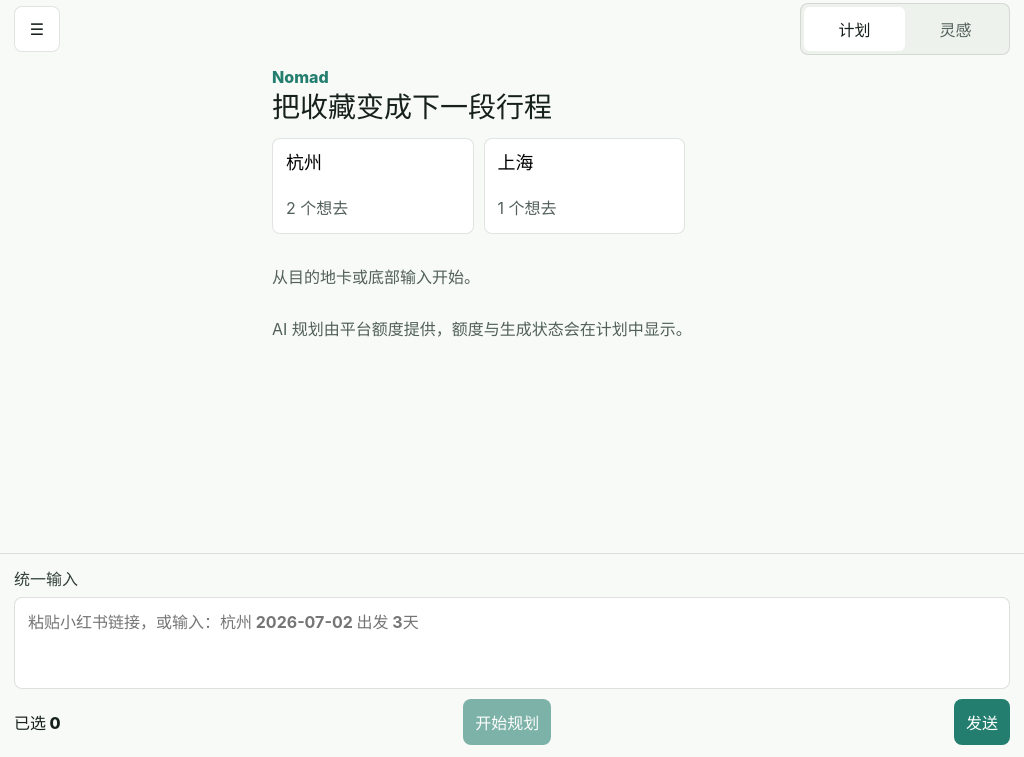
it: HomeScreen › renders destination cards and library items from user-scoped API data
expect the button "杭州 2 个想去" is shown: met, box x1=272 y1=138 x2=474 y2=234
expect the button "上海 1 个想去" is shown: met, box x1=484 y1=138 x2=685 y2=234
Click the button "灵感".
click(956, 29)  # box x1=905 y1=7 x2=1006 y2=51
(page scrolled)
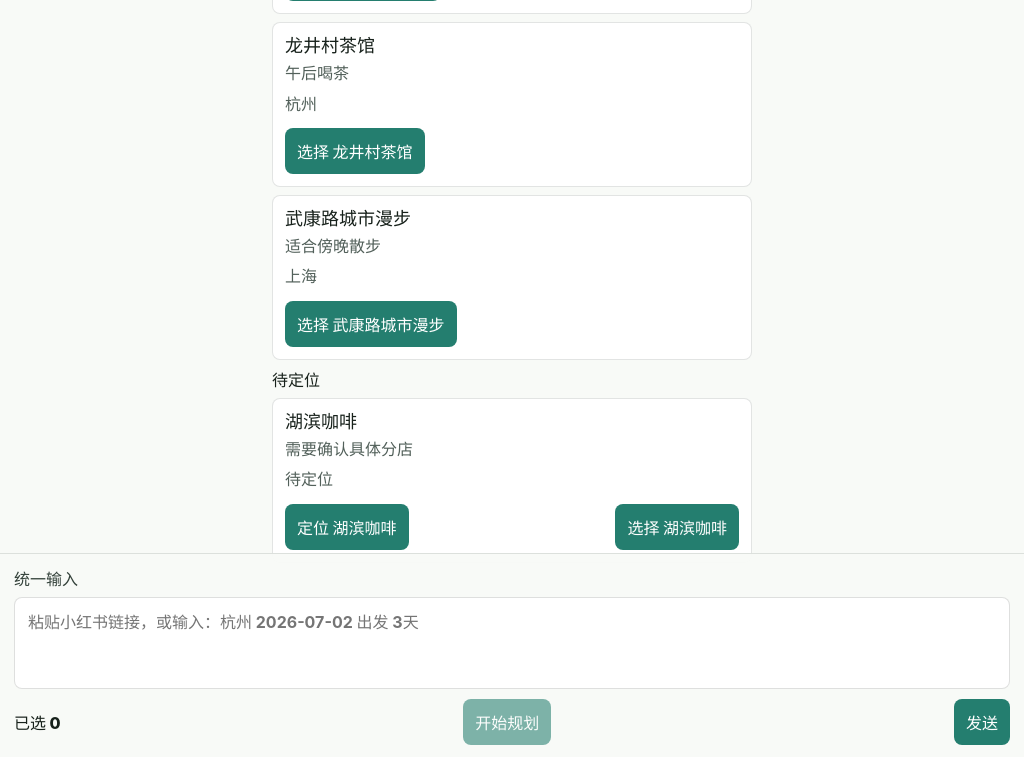
expect the heading "待定位" is shown: met, box x1=272 y1=370 x2=320 y2=390
expect the heading "湖滨咖啡" is shown: met, box x1=285 y1=411 x2=357 y2=432
